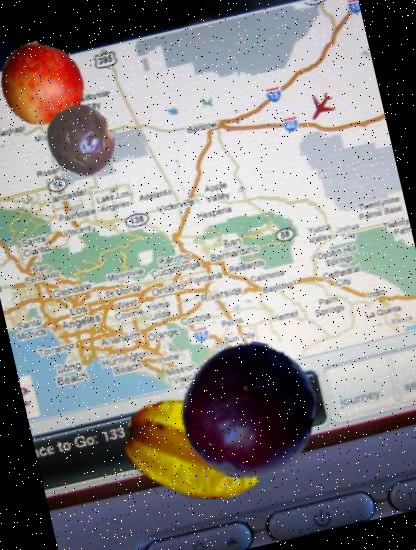Carambula: (108, 366, 278, 536)
Nectarine: (0, 32, 93, 135)
Passion: (37, 95, 127, 186)
Plum: (166, 328, 332, 494)
